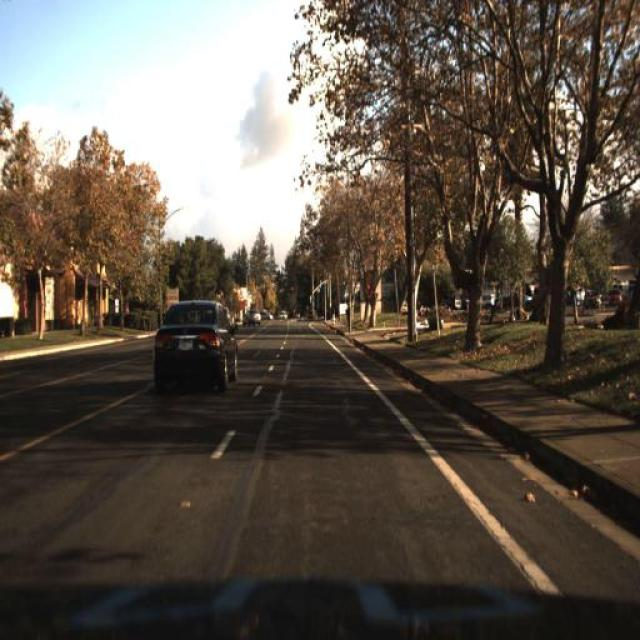car: (149, 297, 237, 389), (242, 310, 262, 326), (258, 312, 274, 321), (308, 310, 318, 321), (281, 312, 287, 319)
trafficLight: (346, 302, 350, 327)
